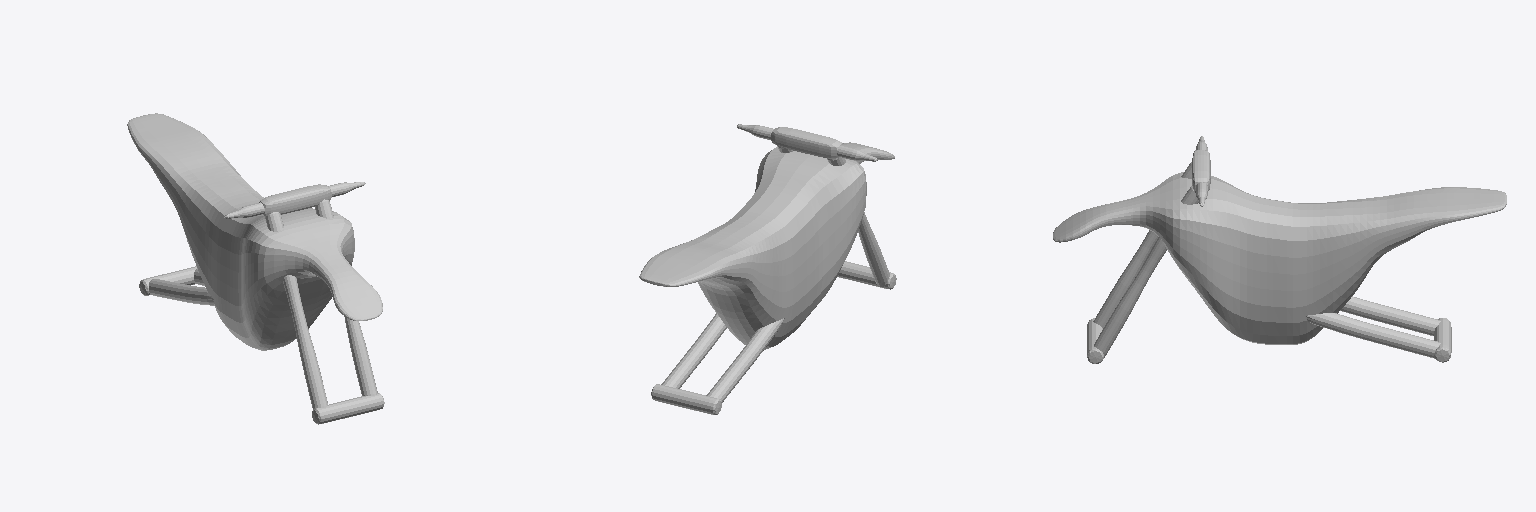
Rendered from bike.obj.
The picture shows the model from 3 angles: view 1: azimuth 30°, elevation 25°; view 2: azimuth 150°, elevation 25°; view 3: azimuth 270°, elevation 25°; orthographic projection.
Visible parts, largest first — view 1: Body_Cube.001; view 2: Body_Cube.001; view 3: Body_Cube.001.
Part boxes in pixels (x1,y1,x2,y2): Body_Cube.001: (127,113,384,424); Body_Cube.001: (639,124,896,414); Body_Cube.001: (1053,136,1506,363).
Bounding box in the file's own units: 1.01 × 1.27 × 2.81.